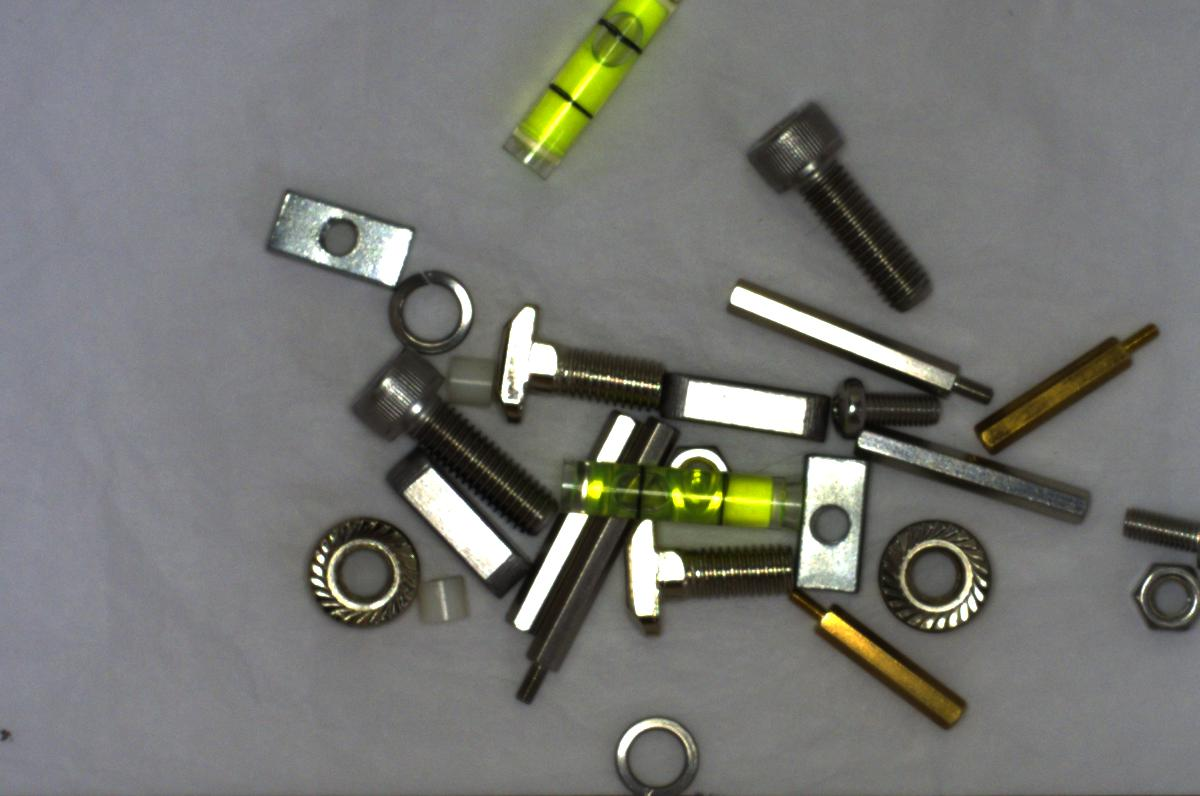Double hexagonal column: (492, 404, 634, 640), (848, 421, 1098, 532)
Flange nut: (866, 506, 1012, 645), (291, 500, 439, 633)
Hexagon nut: (1120, 548, 1193, 639)
Hexagon pillar: (773, 573, 970, 730), (980, 304, 1157, 455)
Hexagon screw: (741, 94, 938, 315), (341, 351, 555, 531)
Hexagonal steel column: (503, 422, 687, 703), (723, 282, 1003, 409)
Horizontal bubble: (493, 1, 670, 182), (552, 451, 808, 533)
Keybar: (392, 454, 520, 599), (662, 365, 823, 444)
Plastic cushion pillar: (407, 567, 480, 635), (438, 346, 501, 409)
Rectangular nut: (262, 187, 419, 291), (785, 449, 873, 595)
Round head screw: (816, 368, 950, 446)
Spring washer: (376, 265, 478, 358), (605, 710, 704, 795)
T-shaped screw: (619, 518, 803, 635), (493, 303, 676, 415)
